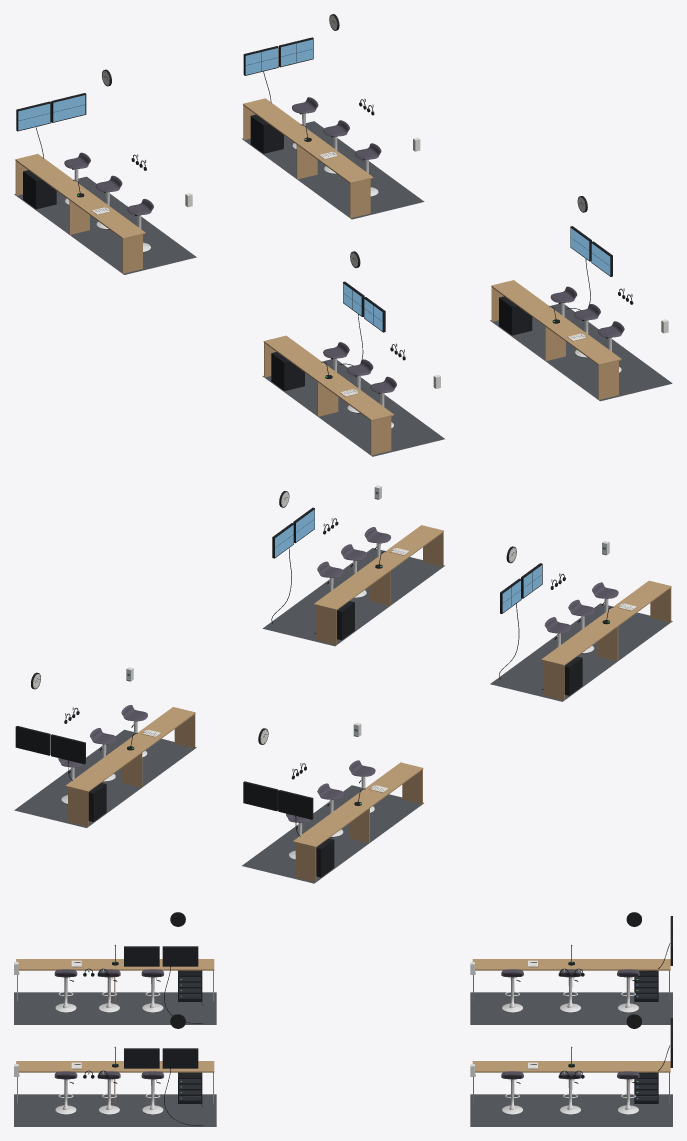
File: 06_n1_control_y_observacion.glb
3 renders of one model, top to bottom at view 1: azimuth 30°, elevation 25°; view 2: azimuth 150°, elevation 25°; view 3: azimuth 270°, elevation 25°, orthographic. The views are drawn at different scales.
Visible parts, largest first — view 1: piso · Cabina Gesell, piso · Cabina Gesell.001, piso · Cabina Gesell.002, piso · Cabina Gesell.003, barra de observación.003, barra de observación.002, barra de observación.001, barra de observación.004, rack_av (×4), pantalla_32 (×4); view 2: barra de observación.003, barra de observación.002, barra de observación.001, barra de observación.004, piso · Cabina Gesell.001, piso · Cabina Gesell, piso · Cabina Gesell.003, piso · Cabina Gesell.002, pantalla_32 (×4), rack_av (×4); view 3: piso · Cabina Gesell.001, piso · Cabina Gesell.003, piso · Cabina Gesell, piso · Cabina Gesell.002, rack_av (×4), pantalla_32 (×4), barra de observación.001, barra de observación.002, barra de observación.003, barra de observación.004.
Part boxes in pixels (bbox=[...]): piso · Cabina Gesell: bbox=[262, 359, 444, 456]; piso · Cabina Gesell.001: bbox=[490, 303, 672, 401]; piso · Cabina Gesell.002: bbox=[14, 176, 196, 274]; piso · Cabina Gesell.003: bbox=[242, 121, 424, 219]; barra de observación.003: bbox=[263, 335, 393, 455]; barra de observación.002: bbox=[243, 98, 373, 218]; barra de observación.001: bbox=[15, 154, 145, 273]; barra de observación.004: bbox=[491, 280, 621, 399]; rack_av (×4): bbox=[23, 114, 532, 390]; pantalla_32 (×4): bbox=[16, 37, 313, 131]; barra de observación.003: bbox=[541, 580, 671, 700]; barra de observación.002: bbox=[65, 707, 195, 826]; barra de observación.001: bbox=[293, 762, 423, 882]; barra de observación.004: bbox=[313, 525, 443, 644]; piso · Cabina Gesell.001: bbox=[263, 548, 444, 646]; piso · Cabina Gesell: bbox=[490, 603, 672, 701]; piso · Cabina Gesell.003: bbox=[14, 729, 196, 827]; piso · Cabina Gesell.002: bbox=[242, 785, 423, 883]; pantalla_32 (×4): bbox=[15, 726, 313, 819]; rack_av (×4): bbox=[88, 601, 582, 877]; piso · Cabina Gesell.001: bbox=[14, 1094, 216, 1126]; piso · Cabina Gesell.003: bbox=[470, 1094, 672, 1126]; piso · Cabina Gesell: bbox=[14, 992, 216, 1024]; piso · Cabina Gesell.002: bbox=[470, 992, 672, 1024]; rack_av (×4): bbox=[178, 970, 658, 1103]; pantalla_32 (×4): bbox=[124, 946, 198, 1068]; barra de observación.001: bbox=[472, 959, 670, 1001]; barra de observación.002: bbox=[472, 1061, 670, 1103]; barra de observación.003: bbox=[16, 959, 214, 1001]; barra de observación.004: bbox=[16, 1061, 214, 1103].
Size of the model in its own units: 6.66 by 2.65 by 13.65.
22 materials, 2 textured.
